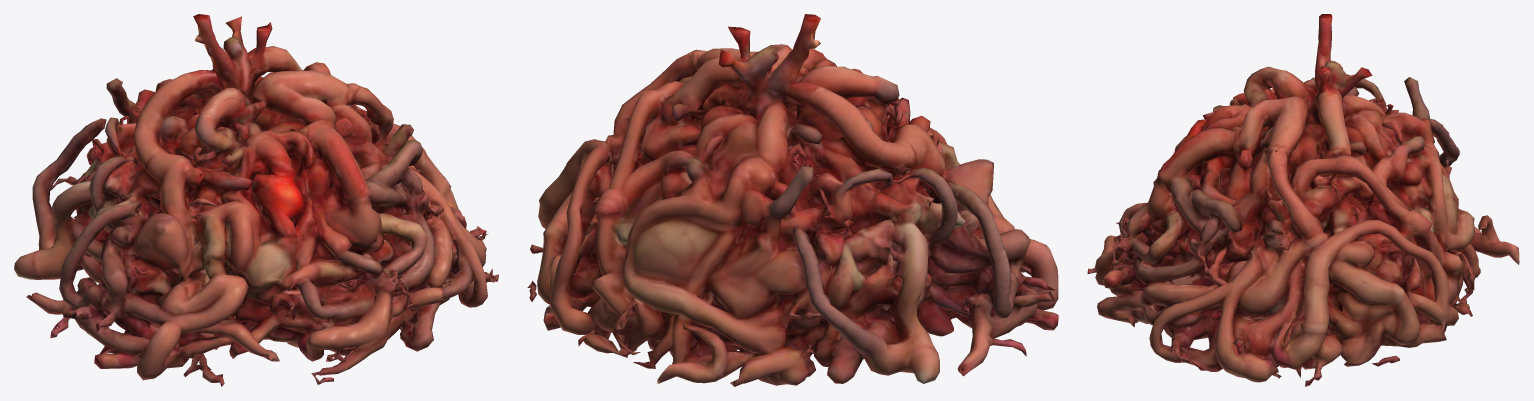
Rendered from mound_of_organs_and_e_0610162346_texture.fbx.
The picture shows the model from 3 angles, left to right: view 1: azimuth 30°, elevation 25°; view 2: azimuth 150°, elevation 25°; view 3: azimuth 270°, elevation 25°; orthographic projection. The views are drawn at different scales.
Visible parts, largest first — view 1: Mesh1; view 2: Mesh1; view 3: Mesh1.
Part boxes in pixels (x1,y1,x2,y2): Mesh1: (14,14,498,386); Mesh1: (527,14,1058,386); Mesh1: (1087,14,1519,386).
Bounding box in the file's own units: 193 × 120 × 180.
Materials: 1 (1 with a texture image).
